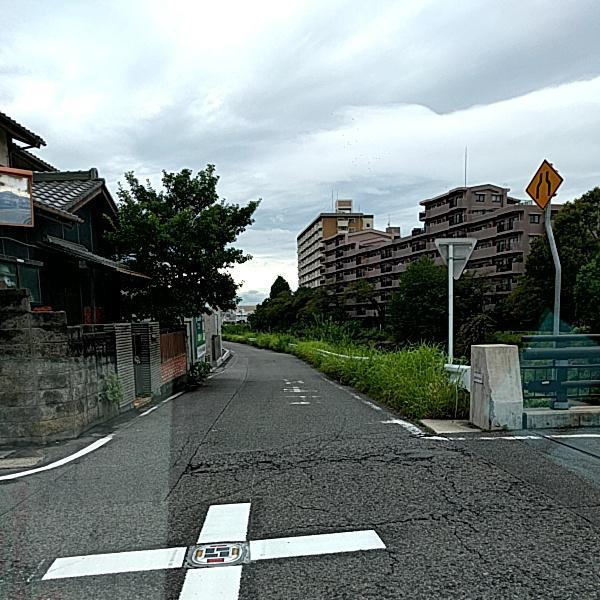D20: (193, 427, 523, 538)
